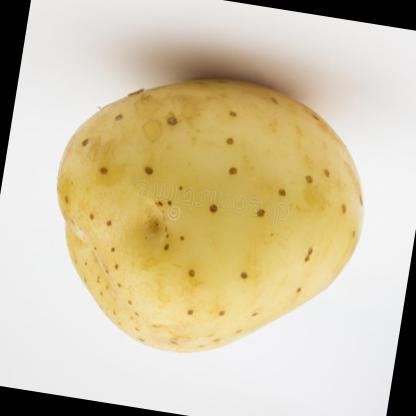potato: (31, 52, 382, 380)
